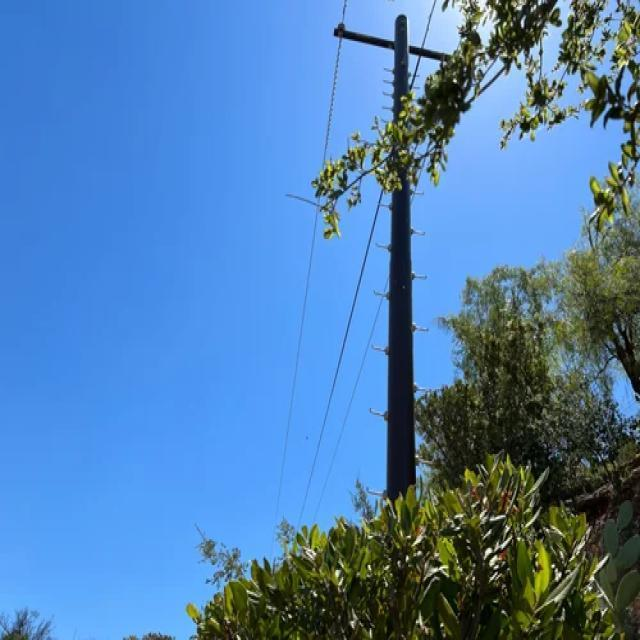critical vegetation: (278, 14, 527, 245)
